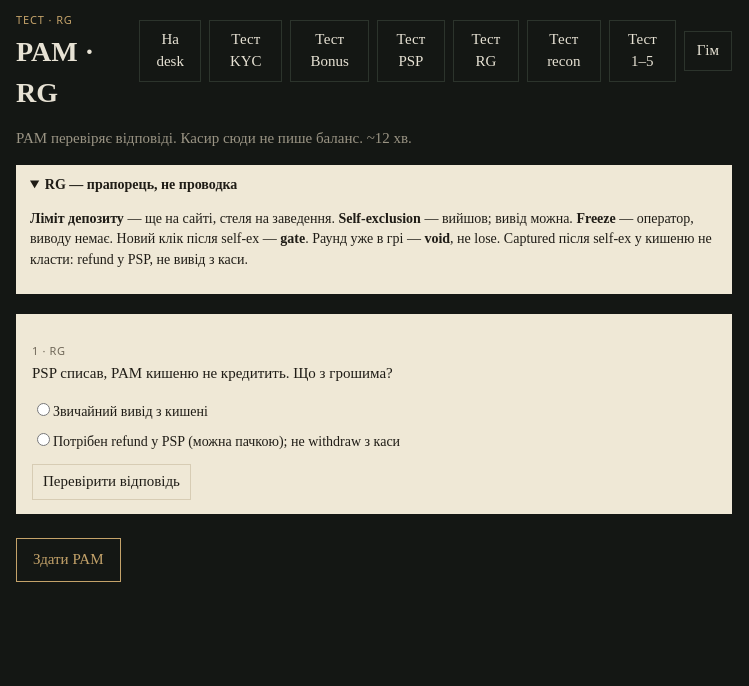
rg exam submits to PAM grade
Expected: the text "PSP списав, PAM кишеню не кредитить. Що з грошима?" is shown, [32,365,393,381]
Click the radio button labelled "Потрібен refund у PSP (можна пачкою); не withdraw з каси" at (44, 440), box [37,433,50,446]
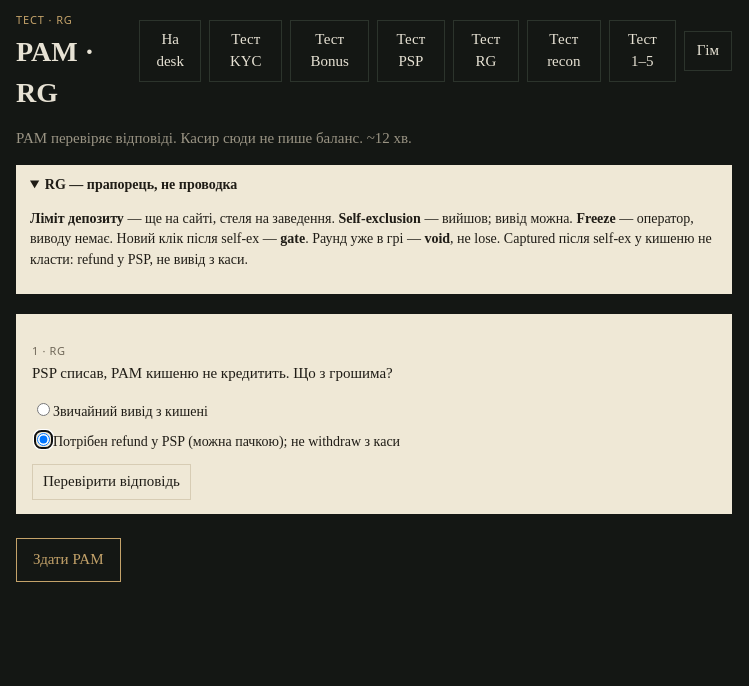
Click the button with test id "exam-submit" at (68, 560), box [16,538,120,582]
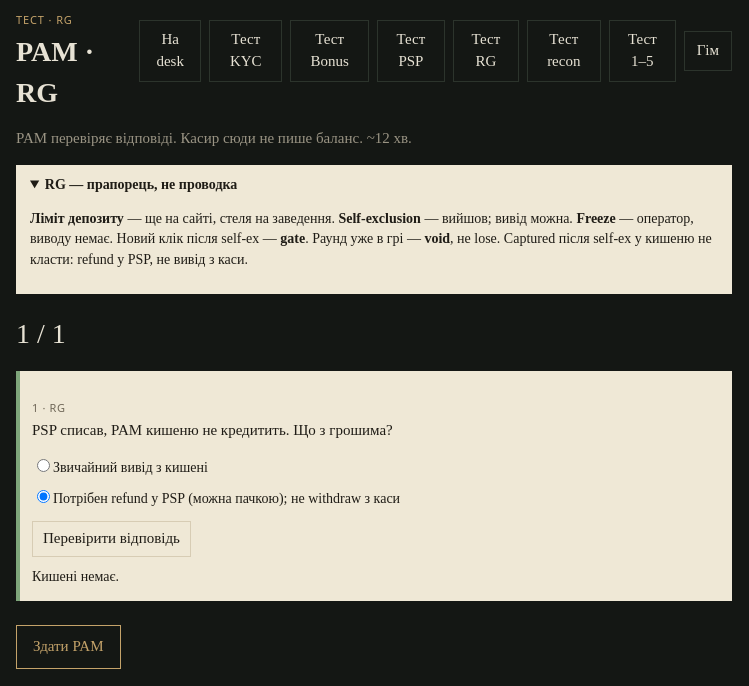
Expected: the text with test id "exam-score" reads "1 / 1", [16,318,66,349]
